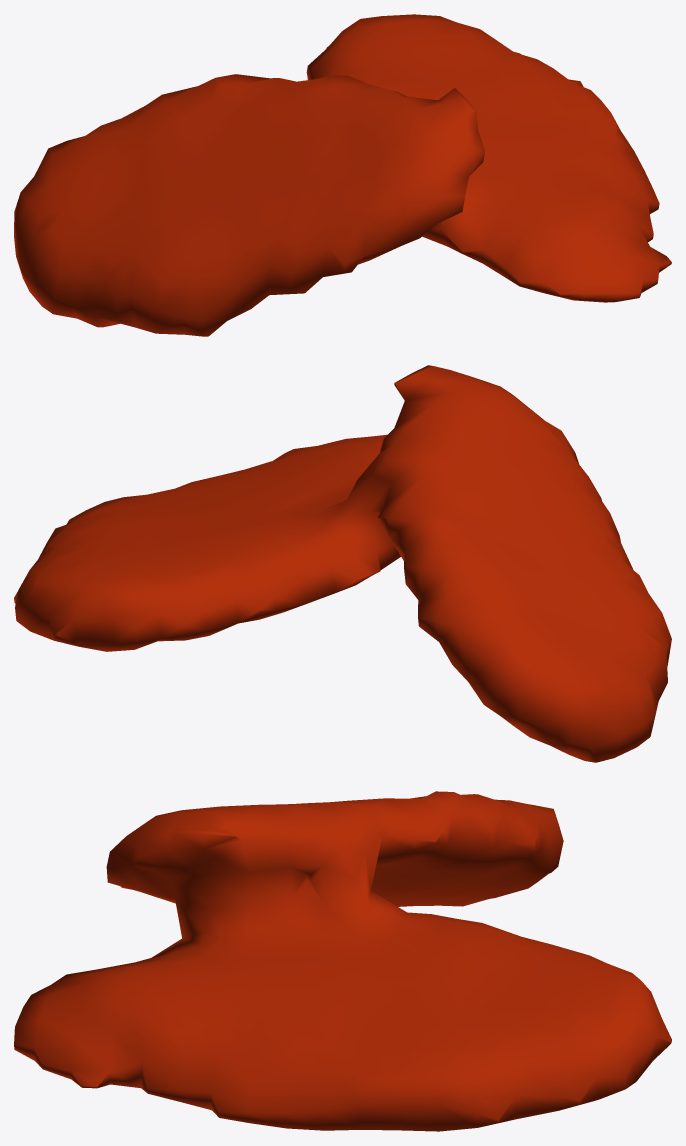
Rendered from sausage.glb.
3 views of the same model, one above another, from view 1: azimuth 30°, elevation 25°; view 2: azimuth 150°, elevation 25°; view 3: azimuth 270°, elevation 25° (orthographic). The views are drawn at different scales.
Visible parts, largest first — view 1: 香腸2.002; view 2: 香腸2.002; view 3: 香腸2.002.
Part boxes in pixels (bbox=[...]): 香腸2.002: bbox=[14, 14, 671, 336]; 香腸2.002: bbox=[14, 365, 671, 762]; 香腸2.002: bbox=[14, 791, 671, 1131].
Size of the model in its own units: 1.03 by 0.37 by 0.9656.
